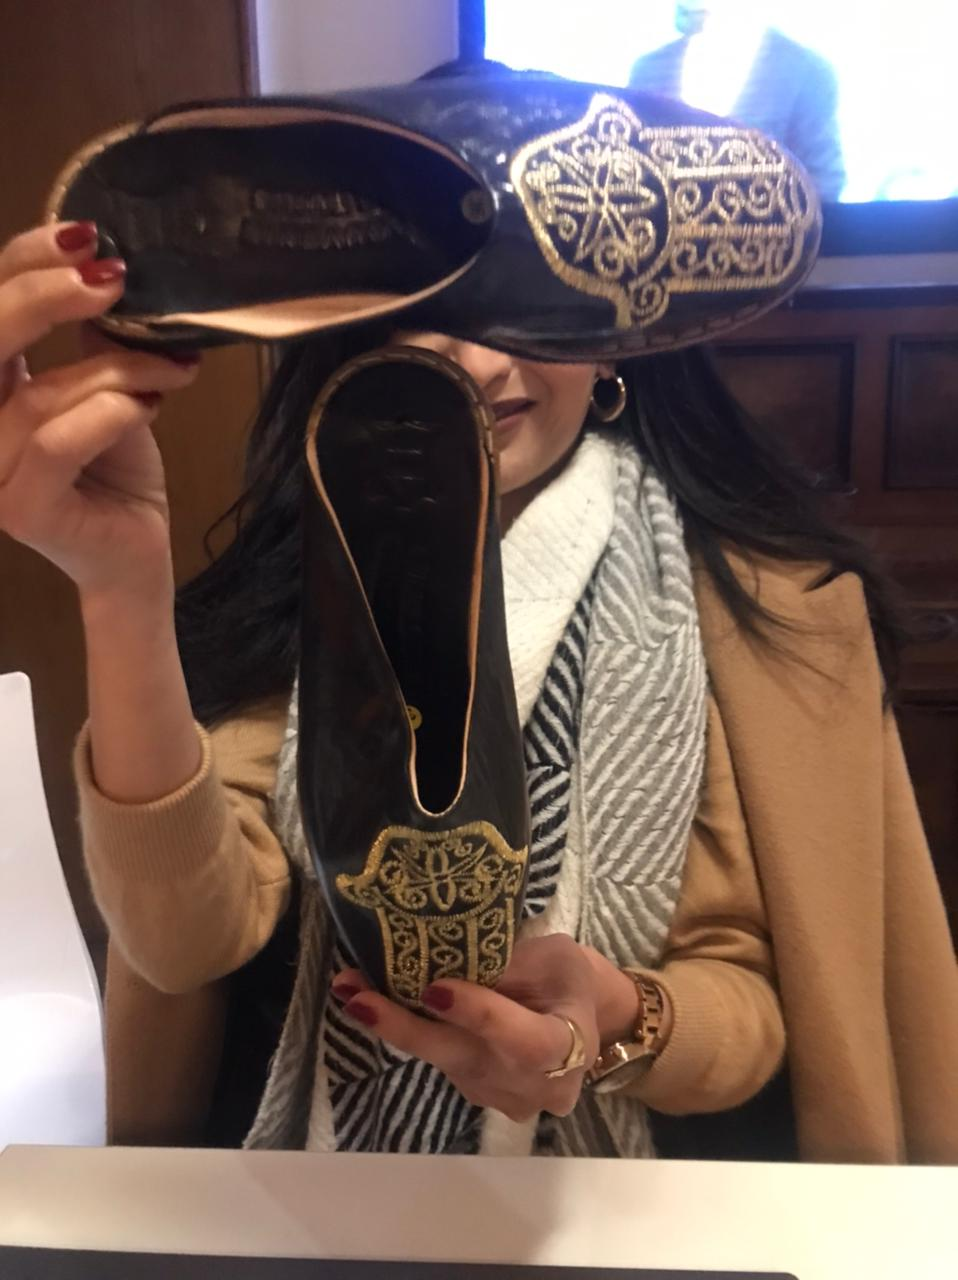balgha: (261, 352, 565, 1013)
